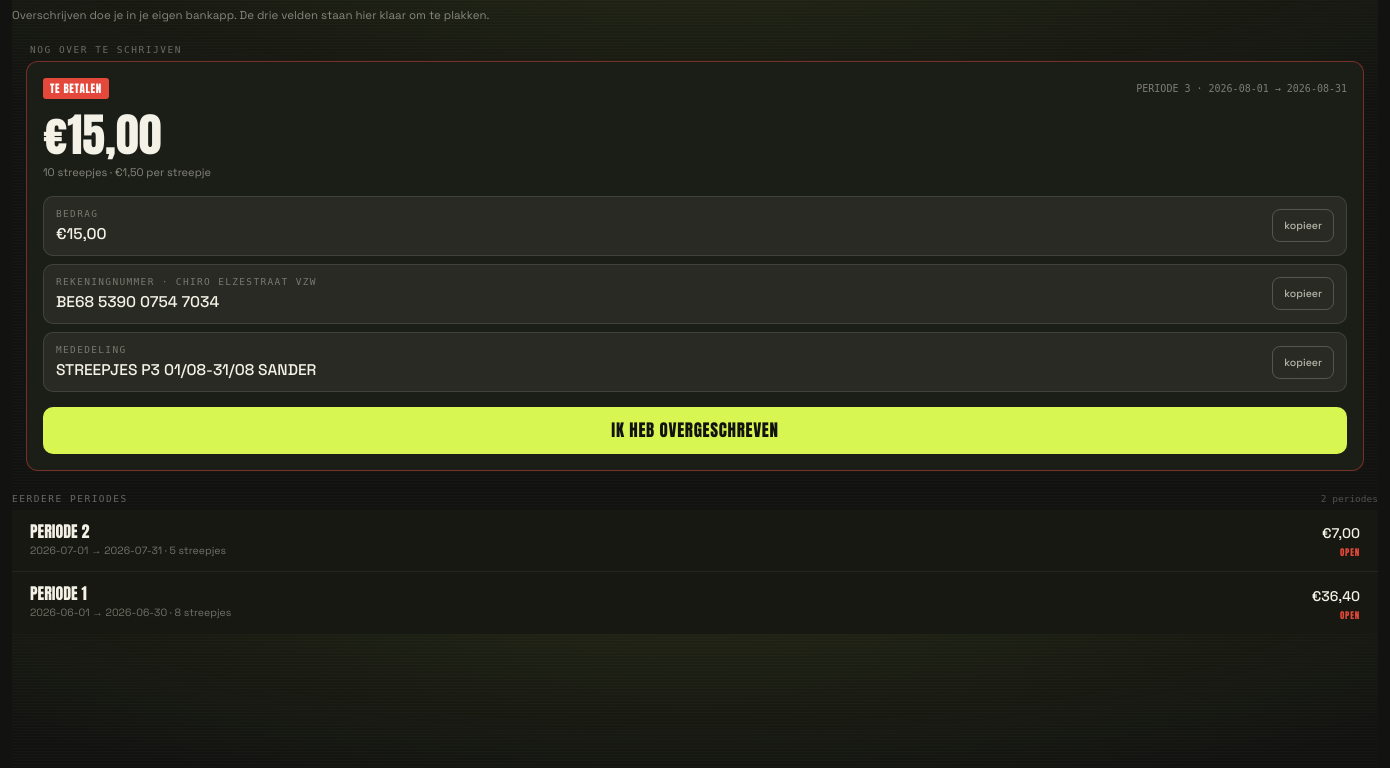
AC3: "Ik heb overgeschreven" meldt de betaling en toont het Doorgegeven-paneel; "toch nog niet betaald" herroept
The image size is (1390, 768).
Click the text "Ik heb overgeschreven". click: (695, 431)
box: 43,407 -> 1347,454
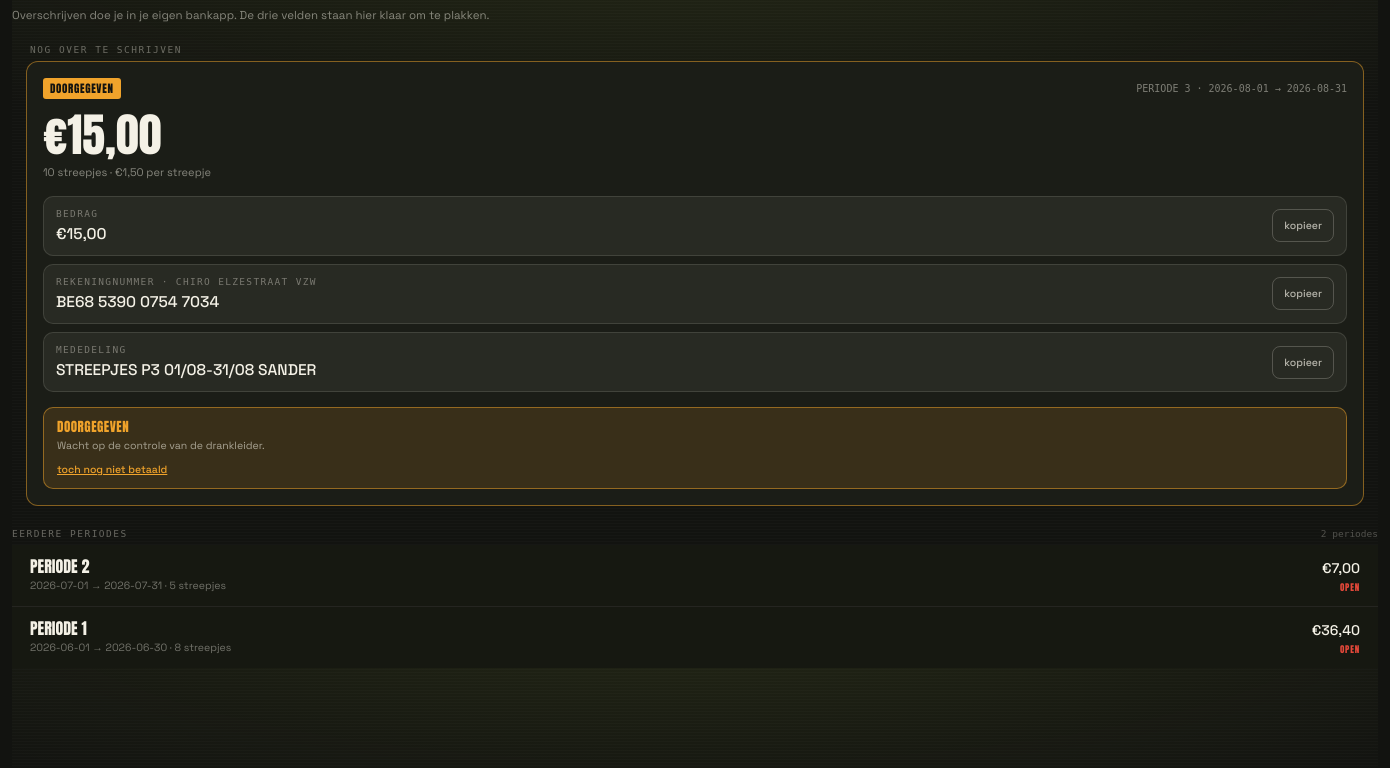
expect the text "Doorgegeven" is shown: met, box 57,417 -> 129,436
expect the text "DOORGEGEVEN" is shown: met, box 43,78 -> 120,99
expect the text "Ik heb overgeschreven" is gone: met
Click the text "toch nog niet betaald". click: (112, 469)
box: 57,463 -> 167,476
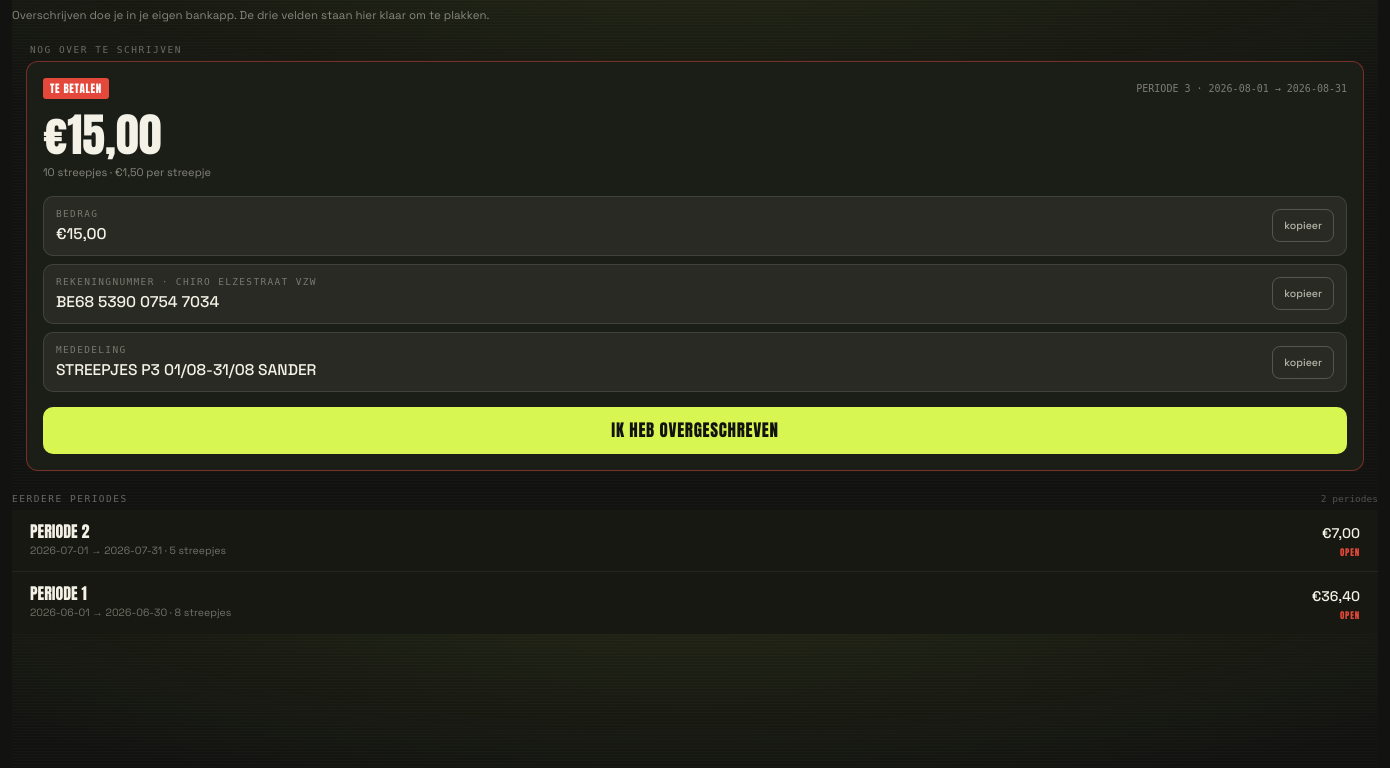
expect the text "Ik heb overgeschreven" is shown: met, box 43,407 -> 1347,454
